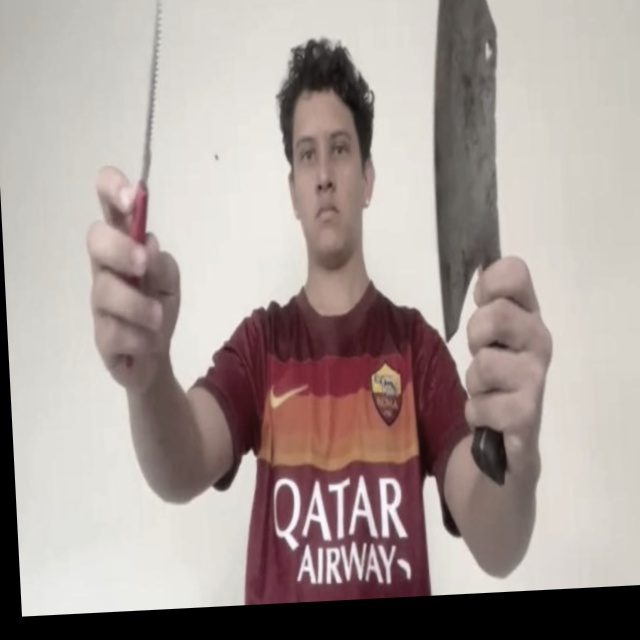Sharp-Object: (420, 0, 515, 346), (131, 0, 172, 187)
